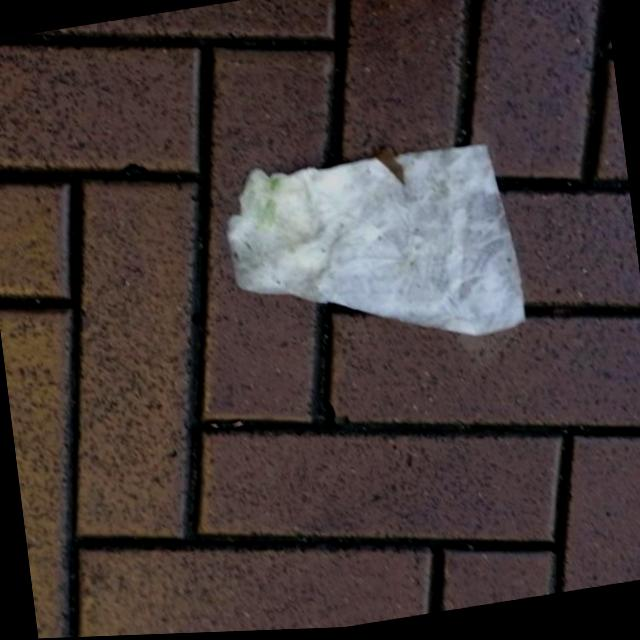Paper: (219, 129, 528, 377)
